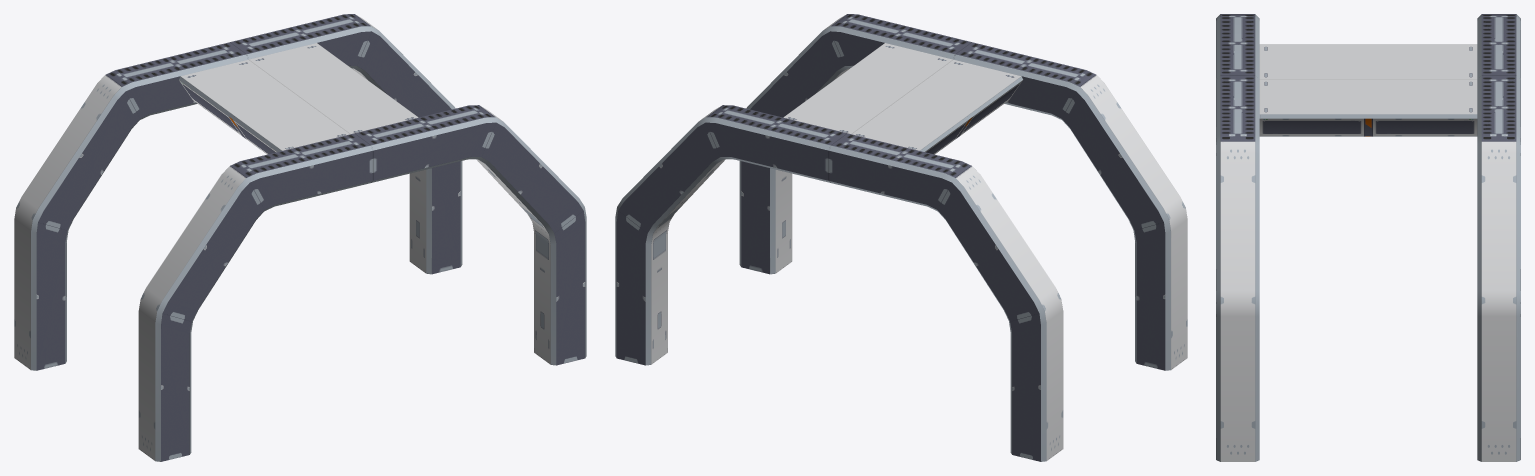
The model's file is Crane_Base_01.FBX.
3 renders of one model, left to right at view 1: azimuth 30°, elevation 25°; view 2: azimuth 150°, elevation 25°; view 3: azimuth 270°, elevation 25°, orthographic. The views are drawn at different scales.
Parts seen in each view (by area): view 1: Crane_Base_01; view 2: Crane_Base_01; view 3: Crane_Base_01.
Boxes of the visible parts, box(x1,y1,x2,y2) form: Crane_Base_01: box(14, 14, 586, 461); Crane_Base_01: box(615, 14, 1187, 461); Crane_Base_01: box(1216, 14, 1520, 461).
Bounding box in the file's own units: 12 × 7 × 7.
